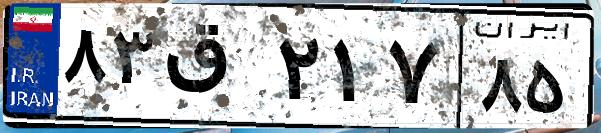1: (330, 28, 385, 110)
2: (270, 28, 330, 110)
3: (110, 28, 158, 98)
5: (525, 38, 570, 115)
7: (385, 28, 445, 110)
8: (57, 26, 110, 100), (475, 38, 525, 113)
ق: (158, 20, 270, 120)
